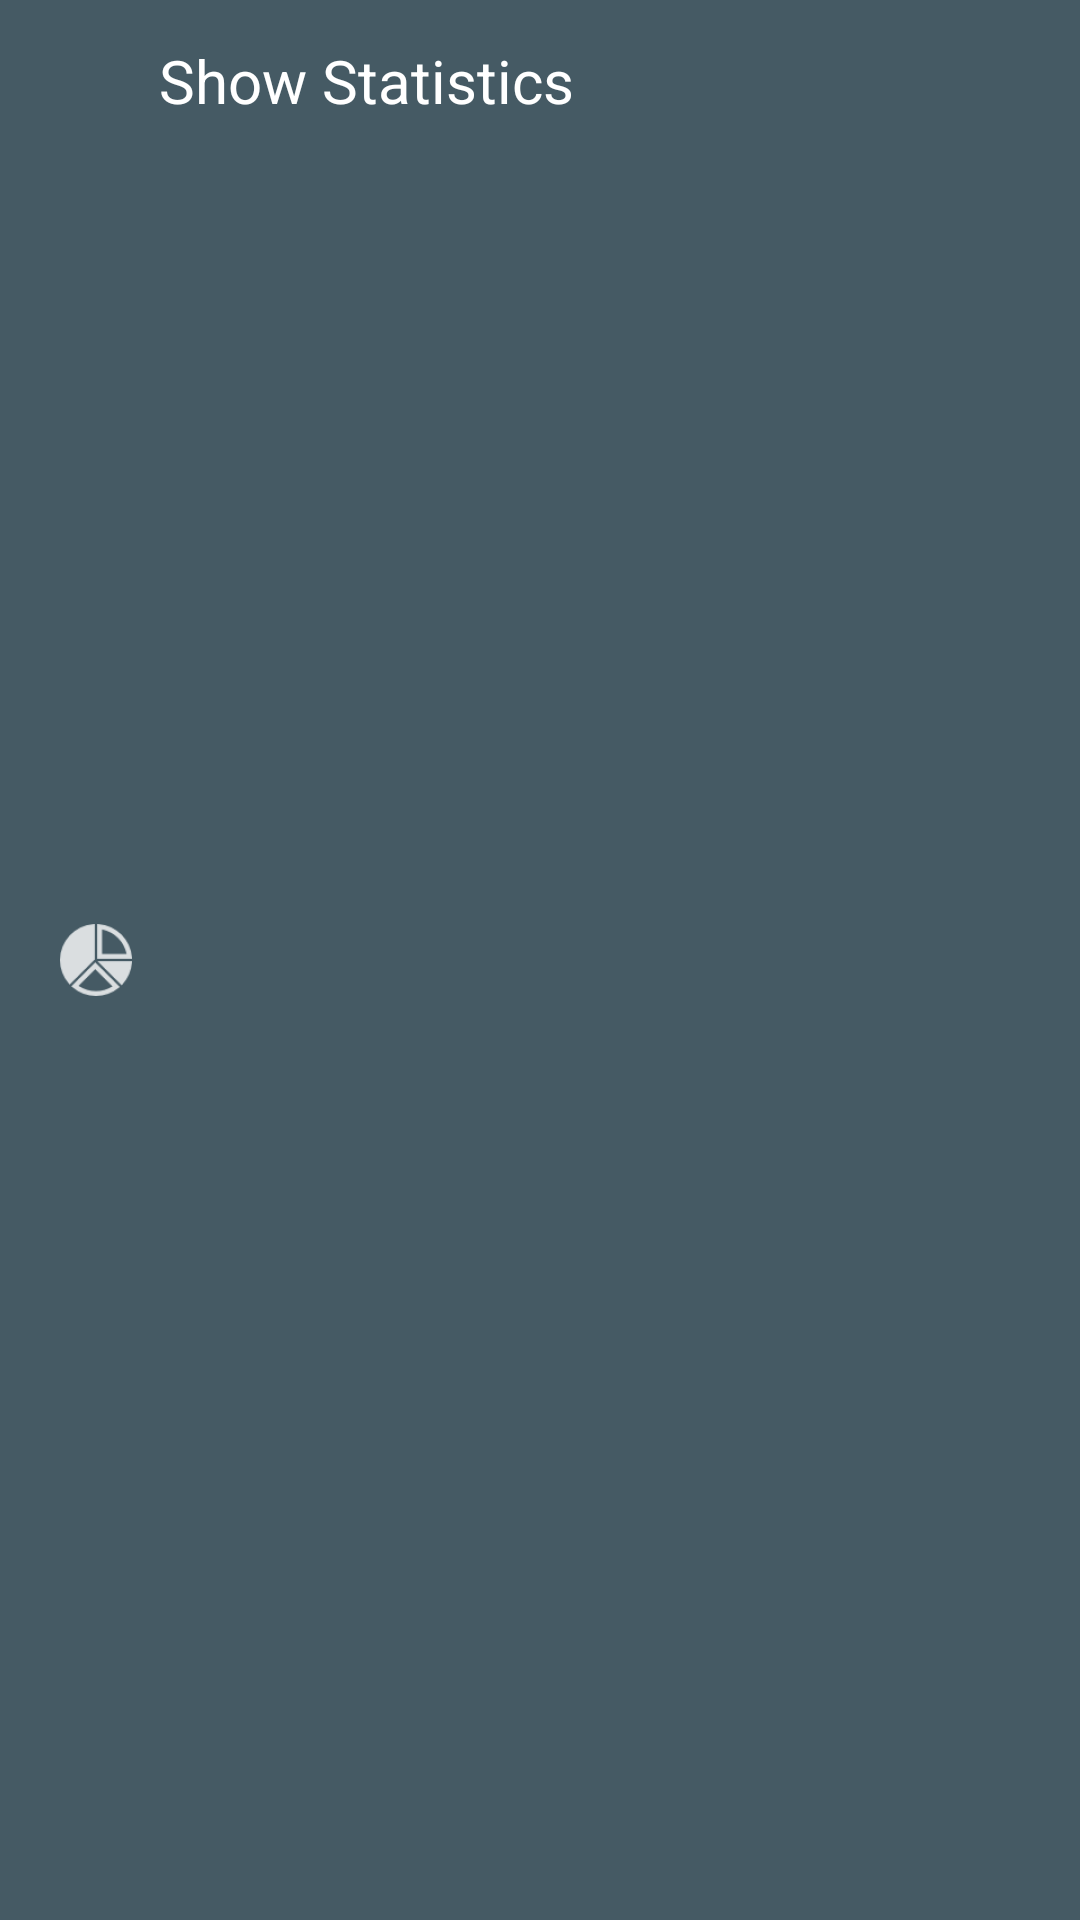

Named icons in this screenshot (1080x1920) and their centers, (x,y):
pie chart: (96,960)
